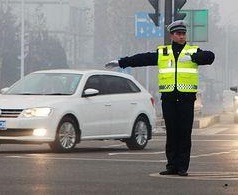person: (101, 19, 216, 177)
